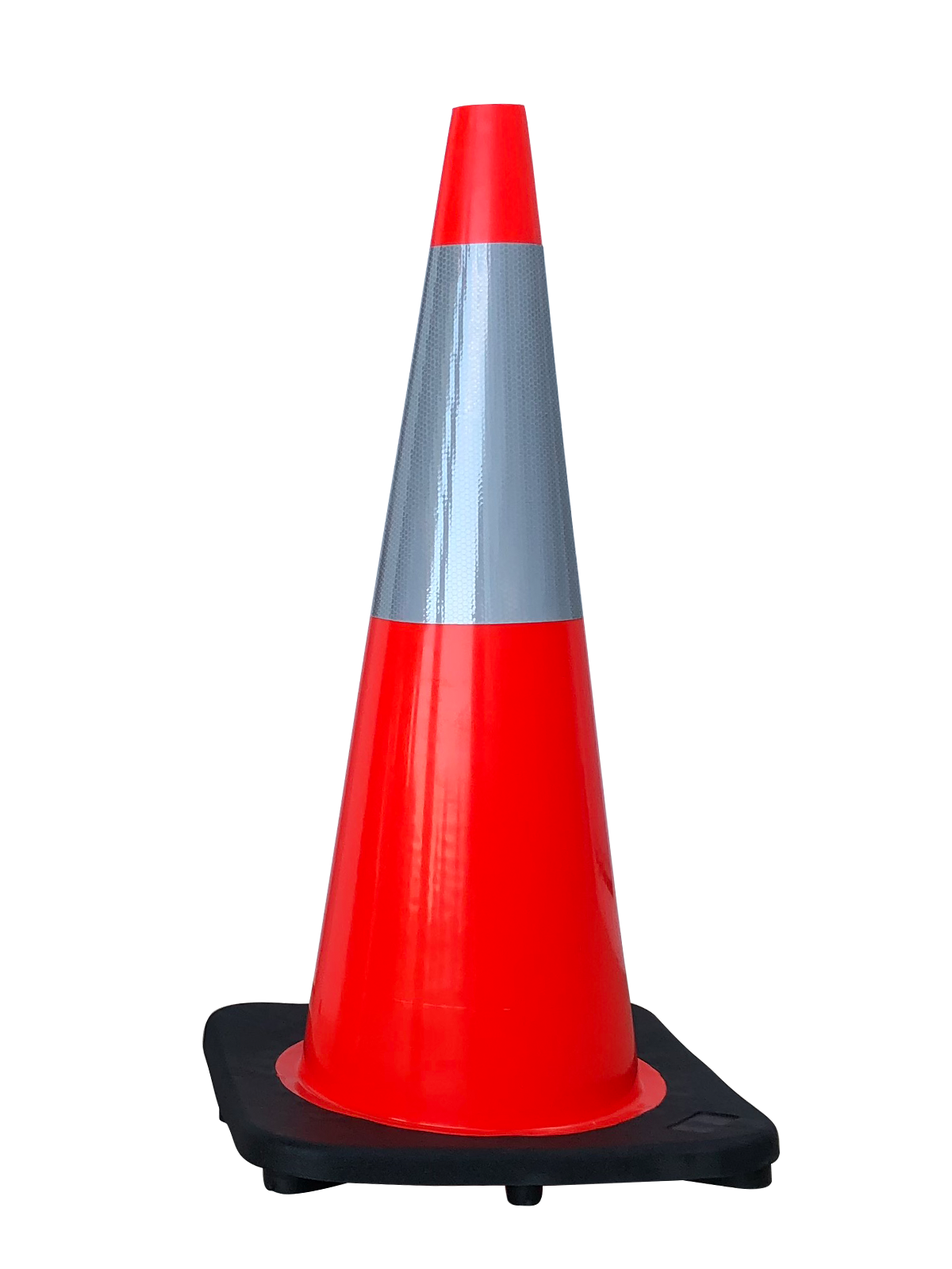Road_cone: (179, 90, 793, 1201)
